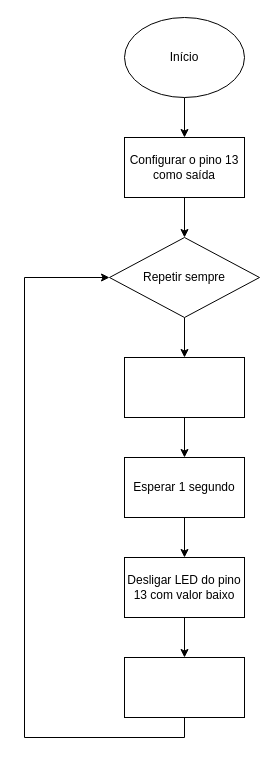
The diagram is 277 pixels wide and 763 high, and some of its shapes have lost their labels. Each missing label, with the centre of its shape:
"Aguardar 1 segundo" goes at (184,687).
"Ligar LED ao pino 13 com valor alto" goes at (184,387).
